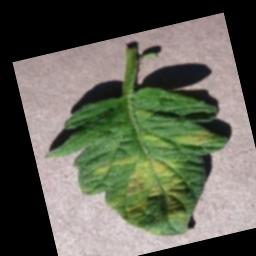Leaf_Mold: (91, 141, 202, 246), (174, 124, 222, 152)
